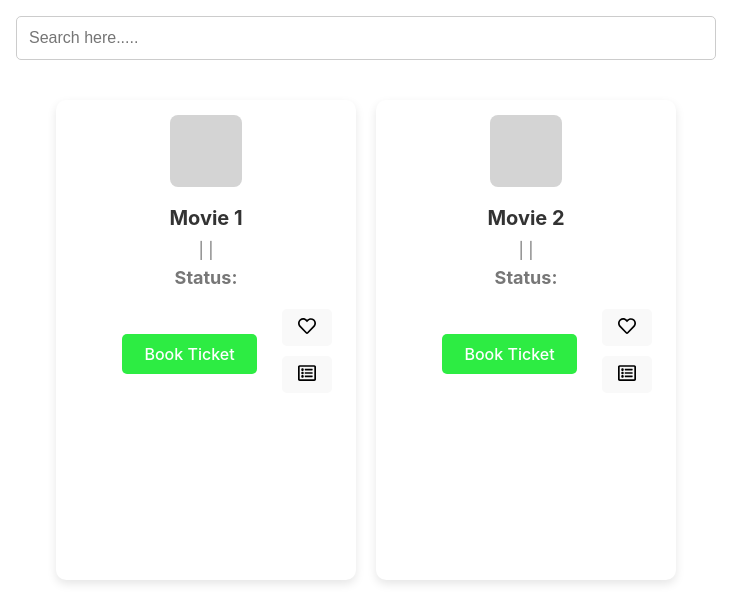
Test: Movies Component › should display "No movies available." when search term does not match any movie
Type "Nonexistent Movie" into the field at (366, 38), box [16, 16, 716, 60]
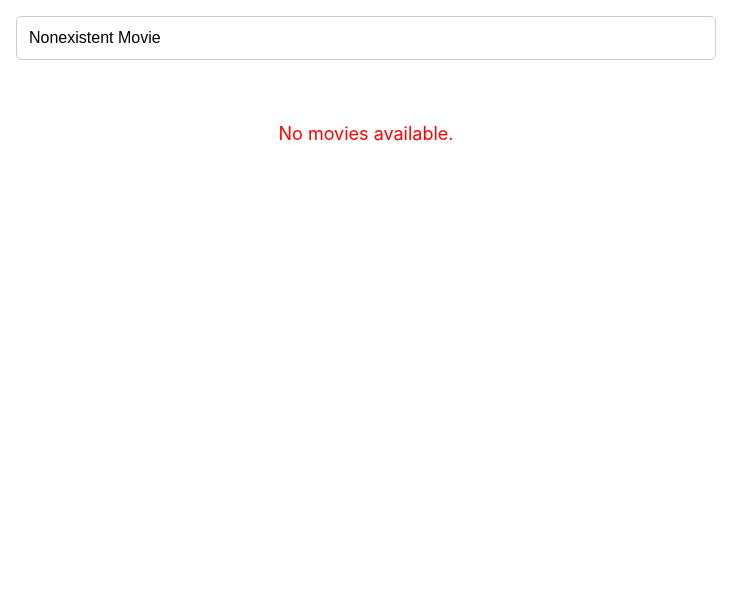
Result: the text "No movies available." is shown at [278, 120, 454, 147]
